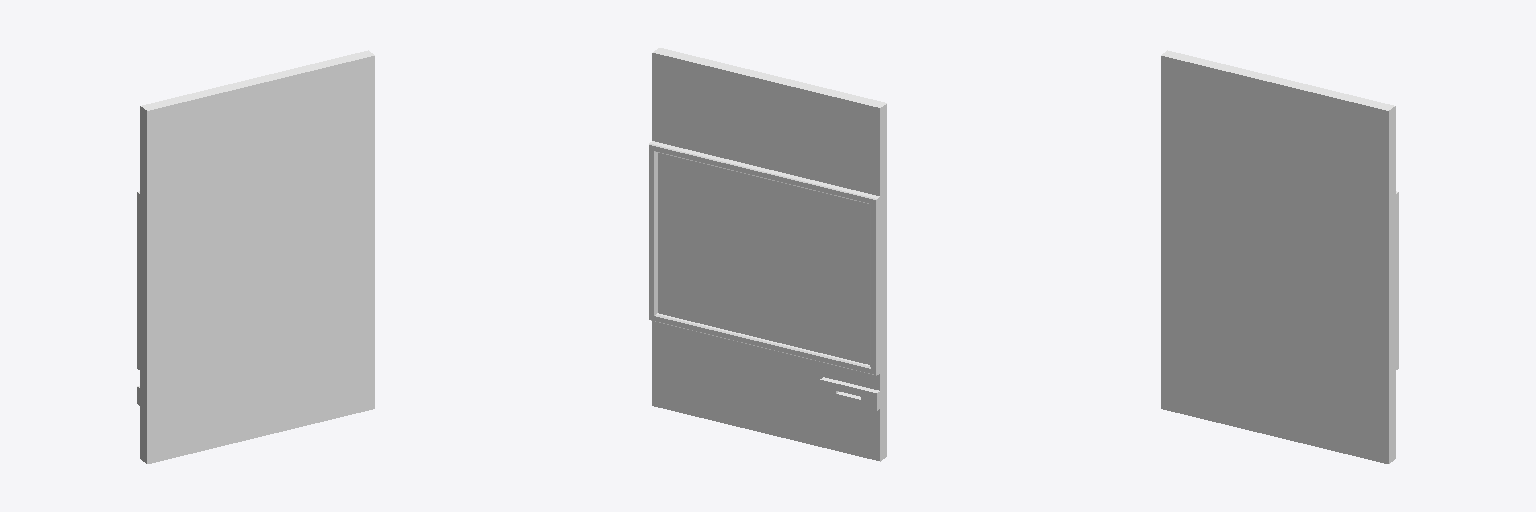
File: space_terminal.obj
The picture shows the model from 3 angles: view 1: azimuth 30°, elevation 25°; view 2: azimuth 150°, elevation 25°; view 3: azimuth 330°, elevation 25°; orthographic projection.
Parts seen in each view (by area): view 1: M_PaintMetal; view 2: M_PaintMetal, M_RT_Computer; view 3: M_PaintMetal.
Part boxes in pixels (x1,y1,x2,y2): M_PaintMetal: (137,50,374,463); M_PaintMetal: (649,48,886,461); M_RT_Computer: (658,153,869,364); M_PaintMetal: (1161,50,1398,463).
Bounding box in the file's own units: 0.6667 × 0.9875 × 0.0548.